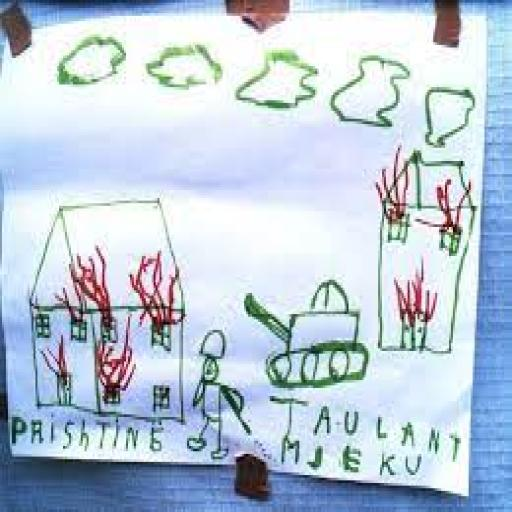person: (185, 321, 249, 471)
